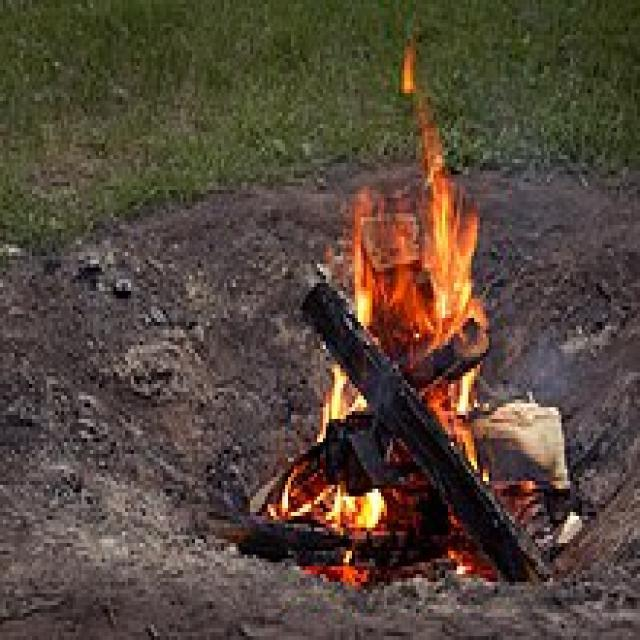Fire: (346, 135, 494, 487)
